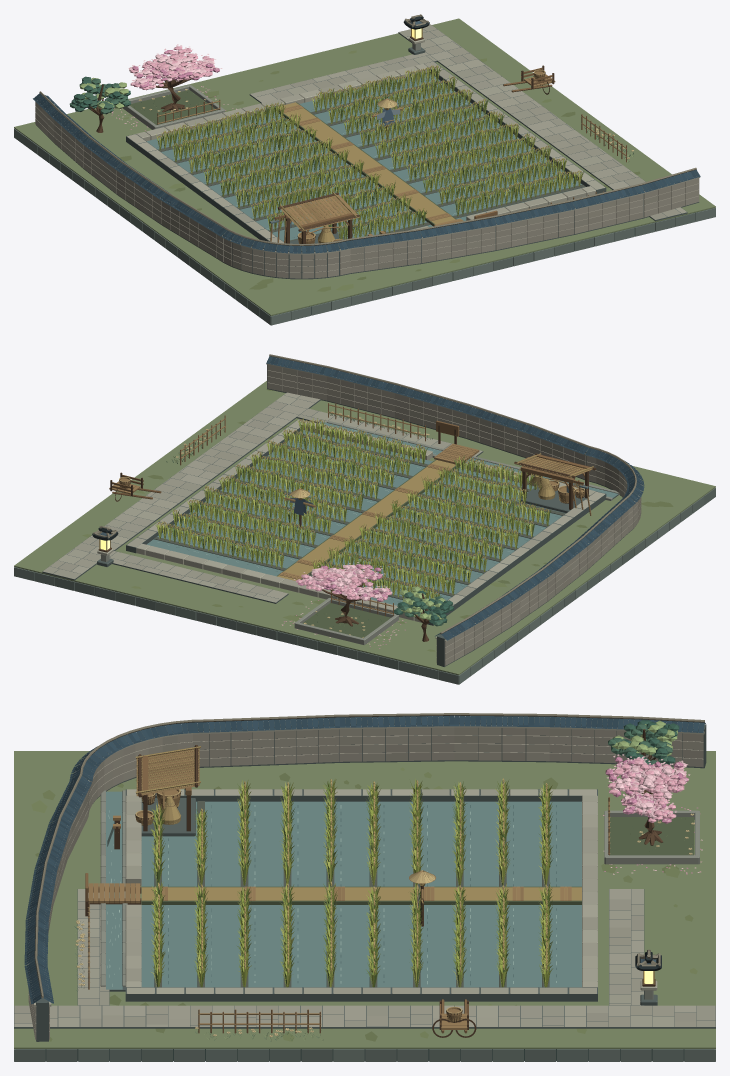
Rendered from fields.glb.
The picture shows the model from 3 angles, top to bottom: view 1: azimuth 30°, elevation 25°; view 2: azimuth 150°, elevation 25°; view 3: azimuth 270°, elevation 25°; orthographic projection. The views are drawn at different scales.
Parts seen in each view (by area): view 1: Fields_terrain_Fields_matte, Fields_wall_Fields_matte, Fields_crops_east_Fields_crop, Fields_crops_west_Fields_crop, Fields_paddy_east_Fields_water, Fields_path_Fields_matte, Fields_paddy_west_Fields_water, Fields_border_Fields_matte, Fields_ridges_Fields_matte, Fields_embankment_Fields_matte, Fields_tree_bed_Fields_matte, Fields_peach_tree_Fields_blossom (+5 smaller); view 2: Fields_terrain_Fields_matte, Fields_wall_Fields_matte, Fields_crops_east_Fields_crop, Fields_crops_west_Fields_crop, Fields_path_Fields_matte, Fields_paddy_east_Fields_water, Fields_border_Fields_matte, Fields_paddy_west_Fields_water, Fields_ridges_Fields_matte, Fields_embankment_Fields_matte, Fields_tree_bed_Fields_matte, Fields_peach_tree_Fields_blossom (+8 smaller); view 3: Fields_terrain_Fields_matte, Fields_wall_Fields_matte, Fields_paddy_east_Fields_water, Fields_paddy_west_Fields_water, Fields_path_Fields_matte, Fields_border_Fields_matte, Fields_crops_east_Fields_crop, Fields_crops_west_Fields_crop, Fields_embankment_Fields_matte, Fields_tree_bed_Fields_matte, Fields_shed_Fields_matte, Fields_peach_tree_Fields_blossom (+9 smaller).
Part boxes in pixels (bbox=[...]): Fields_terrain_Fields_matte: bbox=[14, 18, 715, 325]; Fields_wall_Fields_matte: bbox=[33, 91, 700, 279]; Fields_crops_east_Fields_crop: bbox=[311, 65, 583, 216]; Fields_crops_west_Fields_crop: bbox=[156, 102, 426, 239]; Fields_paddy_east_Fields_water: bbox=[299, 73, 585, 220]; Fields_path_Fields_matte: bbox=[249, 24, 687, 221]; Fields_paddy_west_Fields_water: bbox=[147, 111, 432, 241]; Fields_border_Fields_matte: bbox=[126, 61, 606, 243]; Fields_ridges_Fields_matte: bbox=[158, 80, 585, 241]; Fields_embankment_Fields_matte: bbox=[275, 102, 456, 226]; Fields_tree_bed_Fields_matte: bbox=[122, 84, 224, 129]; Fields_peach_tree_Fields_blossom: bbox=[128, 44, 222, 90]; Fields_terrain_Fields_matte: bbox=[14, 381, 715, 684]; Fields_wall_Fields_matte: bbox=[266, 354, 644, 666]; Fields_crops_east_Fields_crop: bbox=[155, 418, 427, 568]; Fields_crops_west_Fields_crop: bbox=[310, 455, 551, 598]; Fields_path_Fields_matte: bbox=[42, 392, 483, 603]; Fields_paddy_east_Fields_water: bbox=[147, 430, 432, 576]; Fields_border_Fields_matte: bbox=[126, 419, 606, 625]; Fields_paddy_west_Fields_water: bbox=[329, 468, 565, 610]; Fields_ridges_Fields_matte: bbox=[154, 433, 565, 599]; Fields_embankment_Fields_matte: bbox=[277, 459, 457, 580]; Fields_tree_bed_Fields_matte: bbox=[294, 598, 398, 644]; Fields_peach_tree_Fields_blossom: bbox=[294, 562, 392, 601]; Fields_terrain_Fields_matte: bbox=[14, 751, 715, 1061]; Fields_wall_Fields_matte: bbox=[24, 713, 706, 1041]; Fields_paddy_east_Fields_water: bbox=[141, 905, 581, 987]; Fields_paddy_west_Fields_water: bbox=[141, 801, 581, 886]; Fields_path_Fields_matte: bbox=[14, 889, 715, 1028]; Fields_border_Fields_matte: bbox=[125, 789, 597, 1001]; Fields_crops_east_Fields_crop: bbox=[150, 881, 552, 987]; Fields_crops_west_Fields_crop: bbox=[150, 778, 553, 885]; Fields_embankment_Fields_matte: bbox=[141, 886, 581, 904]; Fields_tree_bed_Fields_matte: bbox=[604, 810, 699, 864]; Fields_shed_Fields_matte: bbox=[135, 745, 200, 836]; Fields_peach_tree_Fields_blossom: bbox=[605, 754, 690, 823].
Bounding box in the file's own units: 22 × 3 × 22.
